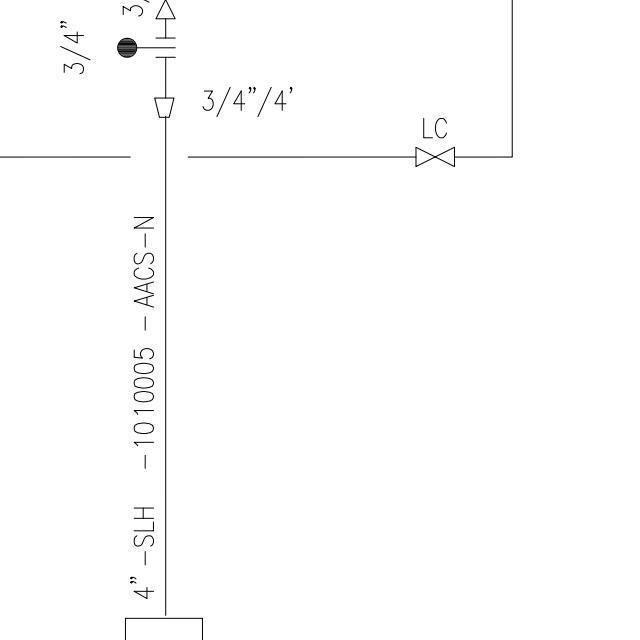GV: (411, 143, 462, 171)
SP: (150, 93, 181, 123)
